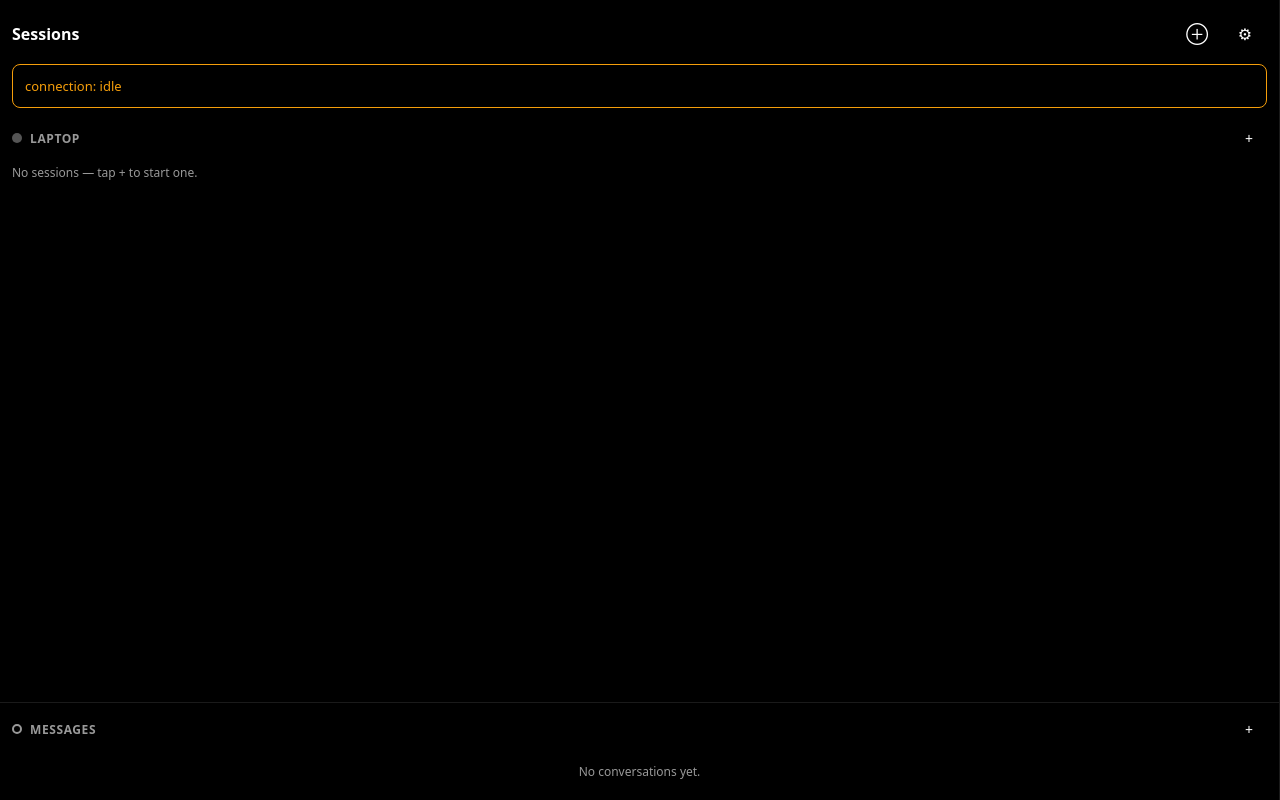
Test: Sidebar › per-machine + opens the NewSessionModal for that machine (Phase 2b)
This screenshot has width=1280, height=800.
Click the button named "New session on laptop". click: point(1249, 138)
box: x1=1231 y1=120 x2=1267 y2=156
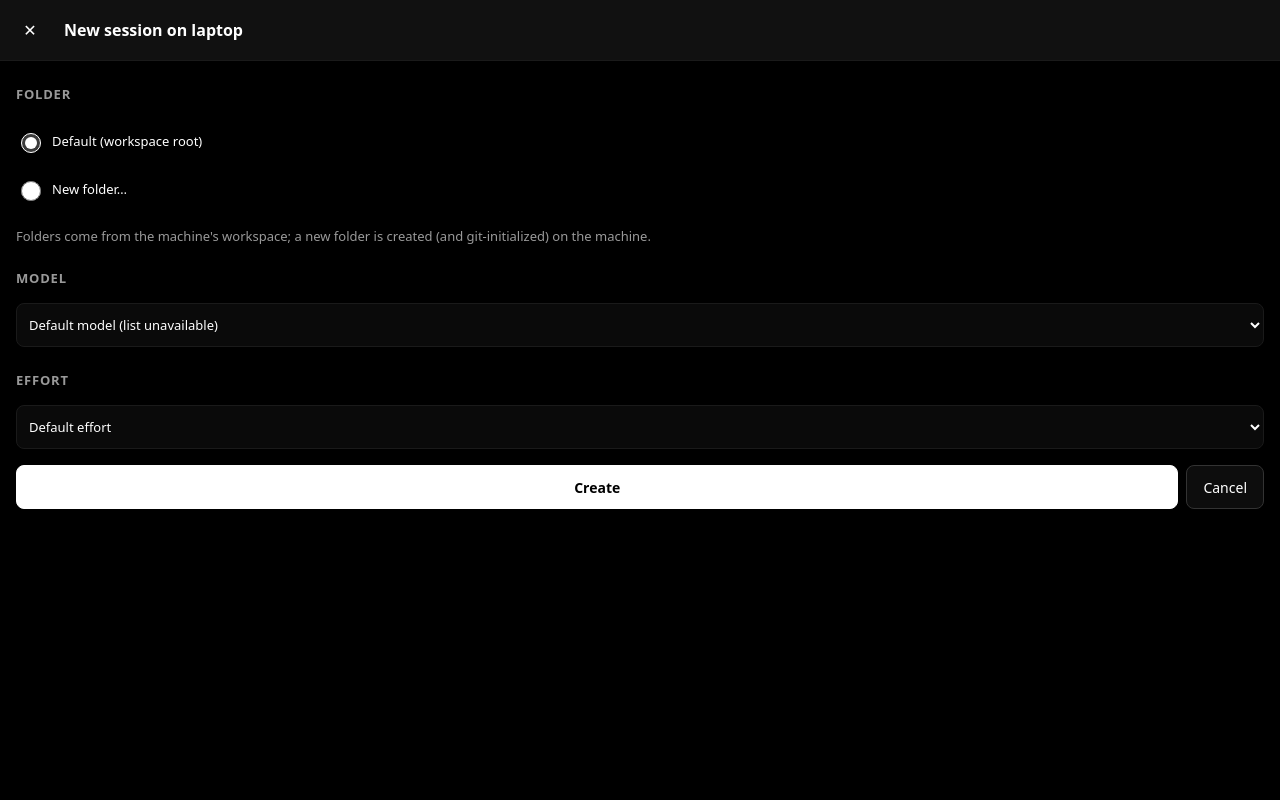
Result: the element with test id "new-session-modal" is shown at x1=16 y1=85 x2=1264 y2=509
Result: the heading "New session on laptop" is shown at x1=64 y1=19 x2=243 y2=41
Click the button "Cancel". click: point(1225, 487)
box: x1=1186 y1=465 x2=1264 y2=509
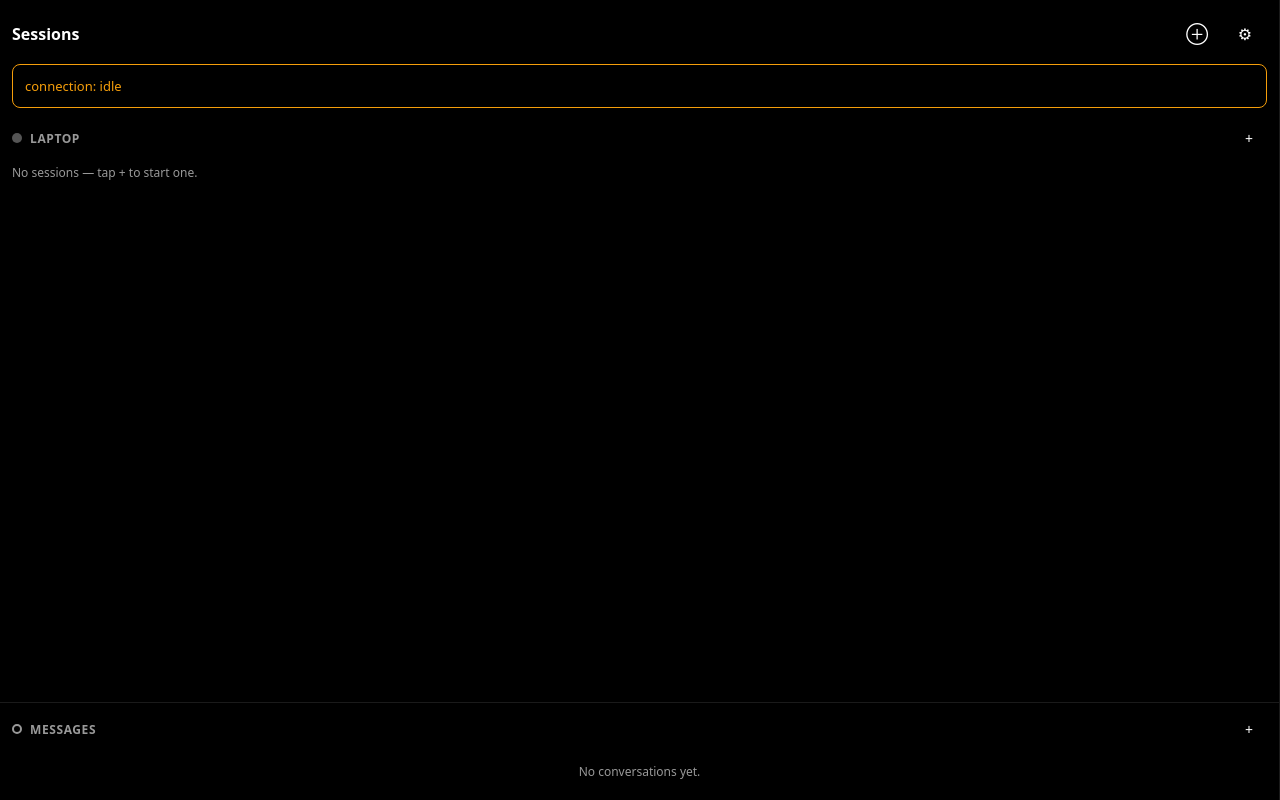
Result: the element with test id "new-session-modal" is gone
